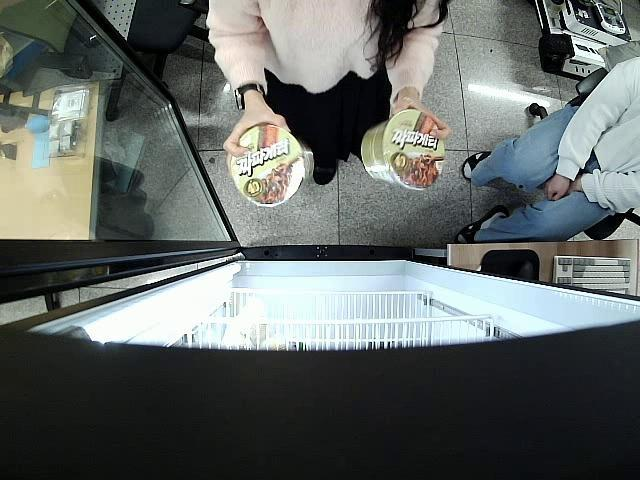03_chapagetti_L: (360, 108, 446, 190), (230, 125, 314, 208)
